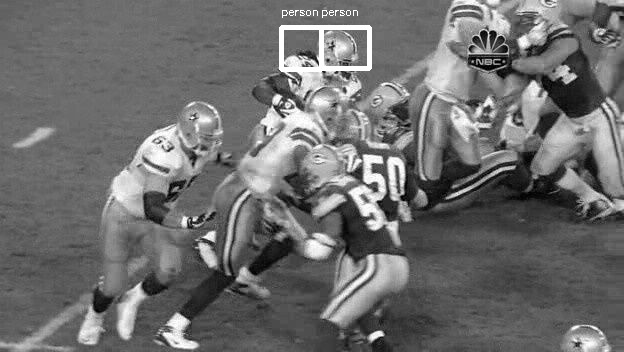person: (324, 33, 360, 78), (323, 33, 359, 78), (325, 33, 361, 78), (324, 32, 360, 77), (324, 34, 360, 79)
target_negative: (140, 228, 399, 319), (466, 96, 567, 260), (160, 3, 225, 175), (26, 169, 91, 267), (148, 342, 384, 348), (128, 310, 214, 316)
